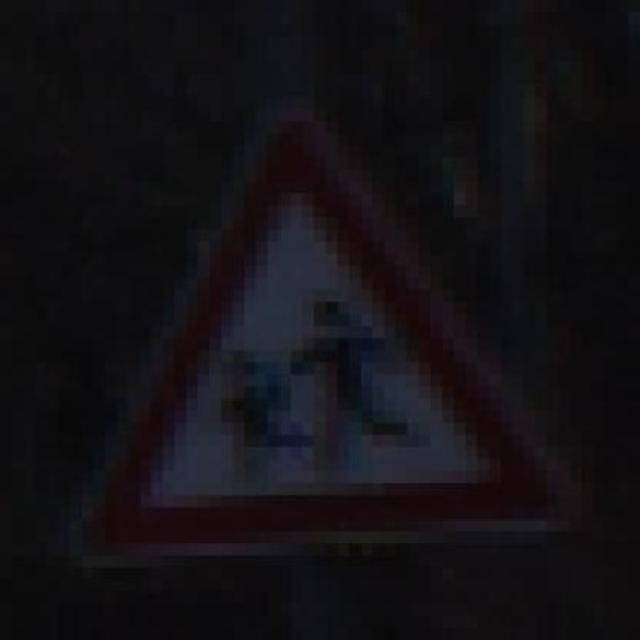Beware of children: (58, 108, 594, 580)
